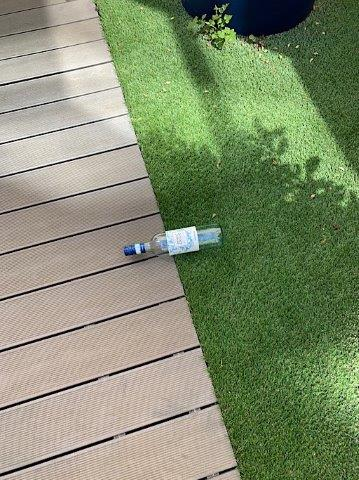botolkaca: (122, 220, 226, 259)
